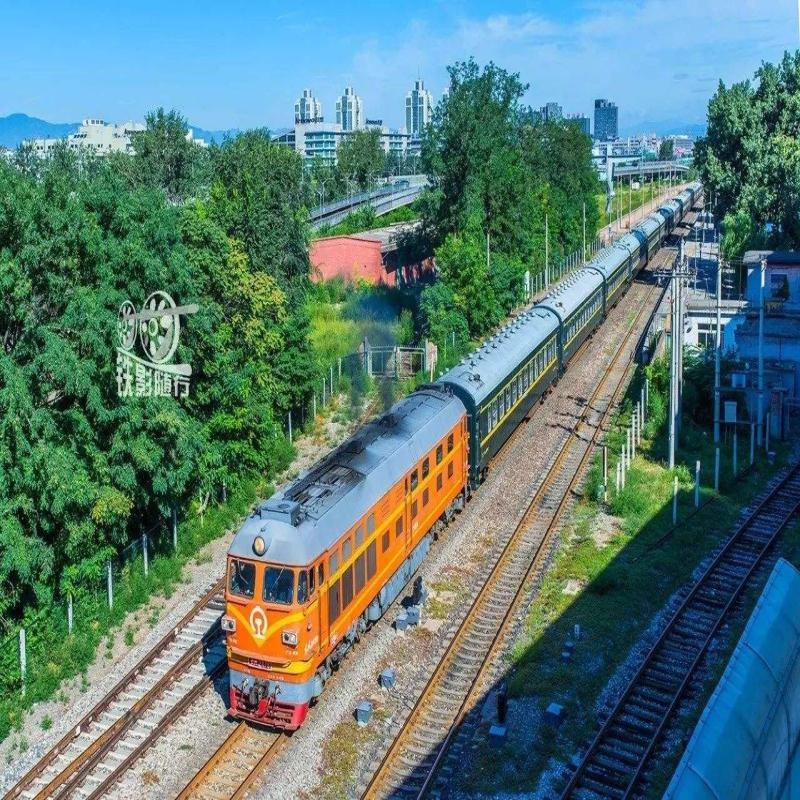train: (174, 218, 674, 755)
